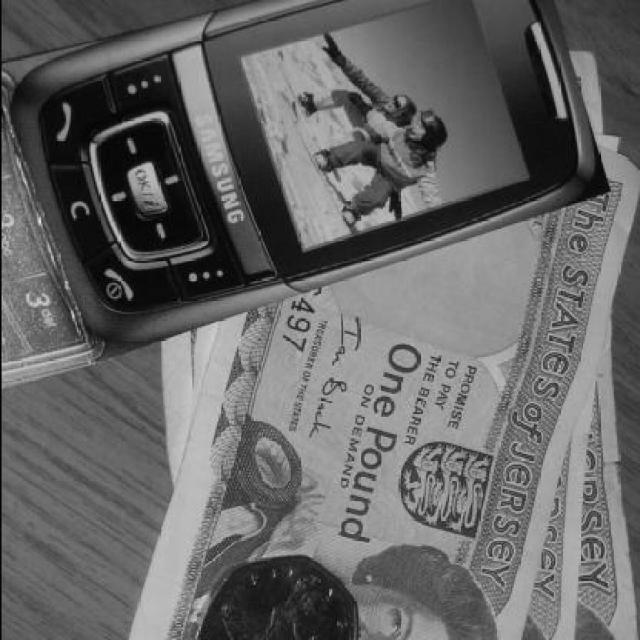fake: (17, 0, 608, 386)
